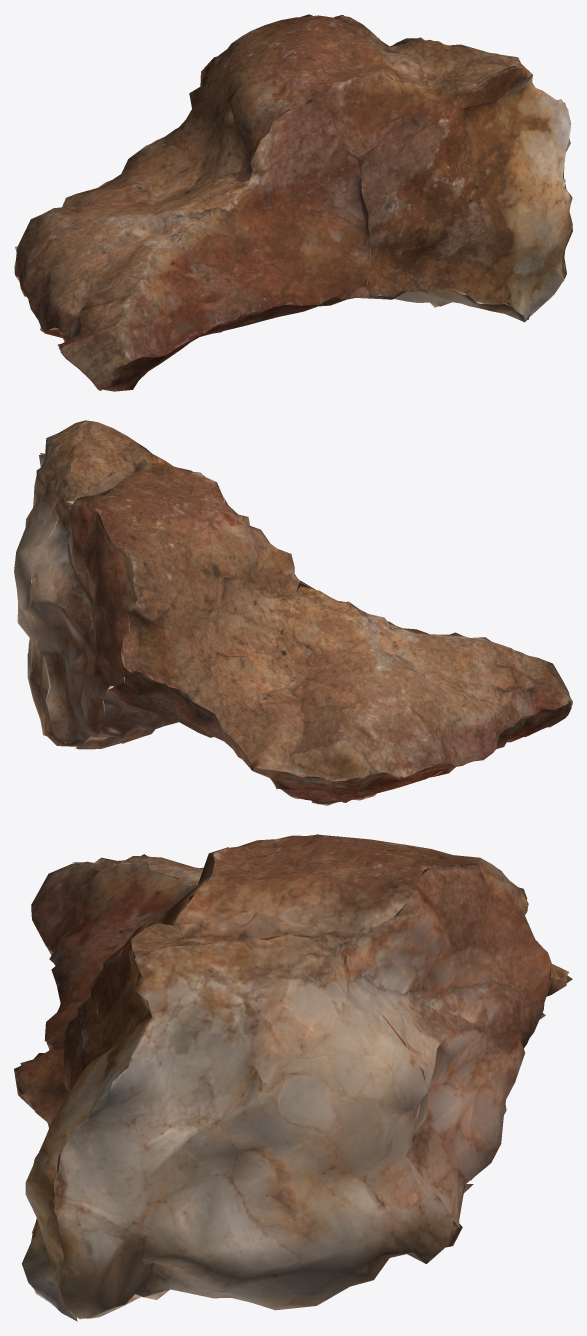
The model's file is stone_01.glb.
The picture shows the model from 3 angles, top to bottom: view 1: azimuth 30°, elevation 25°; view 2: azimuth 150°, elevation 25°; view 3: azimuth 270°, elevation 25°; orthographic projection. The views are drawn at different scales.
Parts seen in each view (by area): view 1: stone_01_lod0; view 2: stone_01_lod0; view 3: stone_01_lod0.
Part boxes in pixels (x1=…): stone_01_lod0: x1=14, y1=14, x2=572, y2=391; stone_01_lod0: x1=14, y1=420, x2=572, y2=805; stone_01_lod0: x1=14, y1=834, x2=572, y2=1321.
Size of what is drawn, in the model's own units: 0.1469 by 0.0713 by 0.0899.
1 material, 1 textured.
